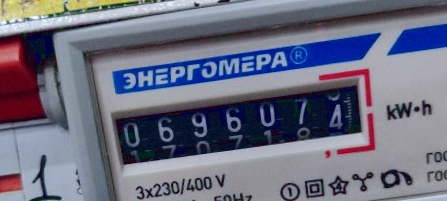0: (120, 117, 143, 149), (255, 98, 277, 128)
4: (324, 101, 346, 131)
6: (222, 103, 244, 133), (154, 114, 176, 143)
7: (290, 94, 313, 126)
9: (188, 109, 209, 140)
screen: (97, 63, 385, 186)
